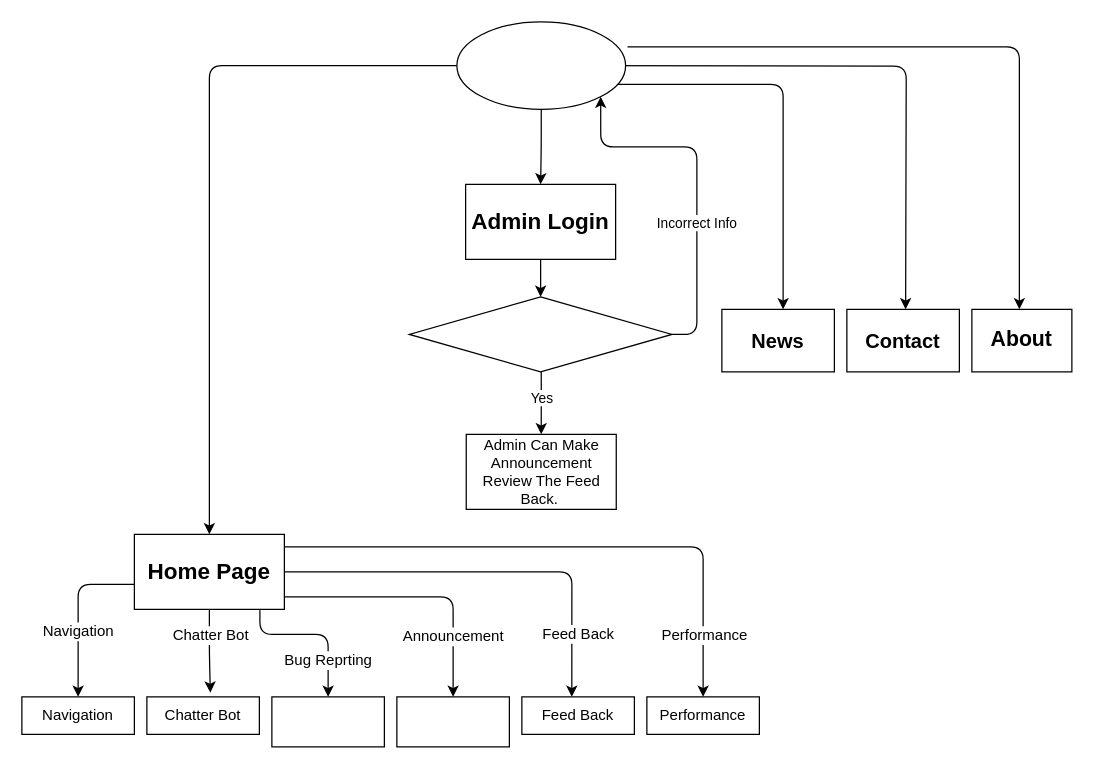
The diagram is 1094 pixels wide and 769 high, and some of its shapes have lost their labels. Each missing label, with the box of its shape:
Admin Name And Password: (408, 296, 672, 372)
Here Admin Can Make Announcement: (396, 696, 509, 747)
Start: (456, 21, 626, 109)
User Can Report Bug Of Our Service Here: (271, 696, 384, 747)
